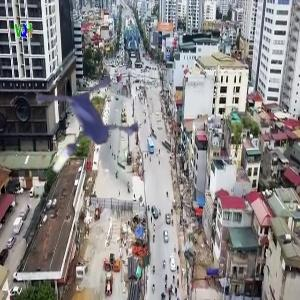drone: (3, 52, 155, 204)
